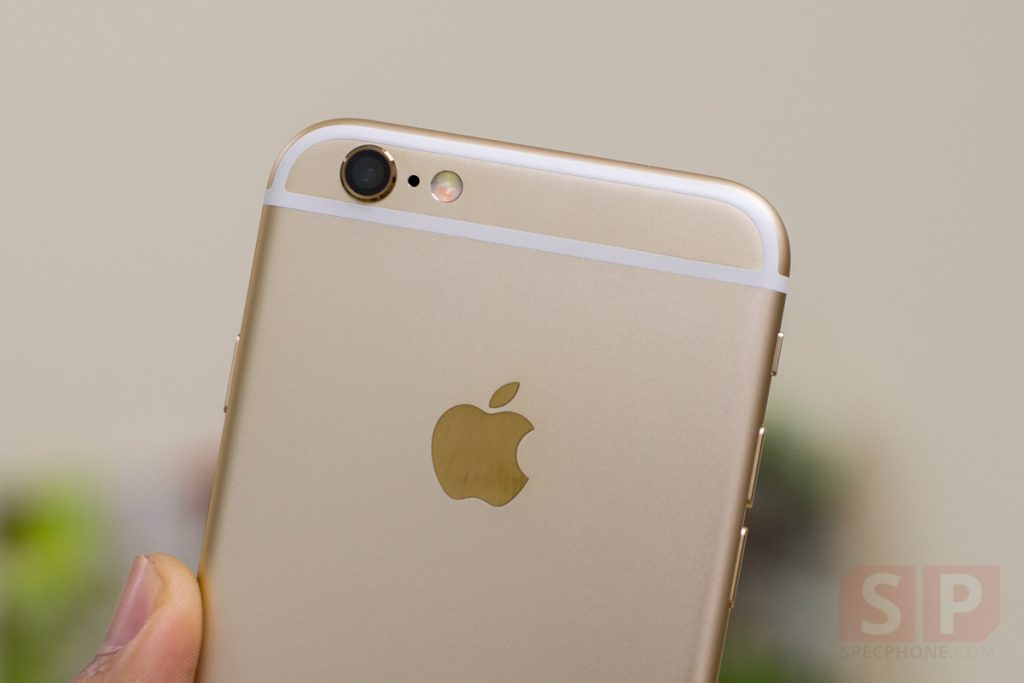phone: (195, 100, 801, 683)
